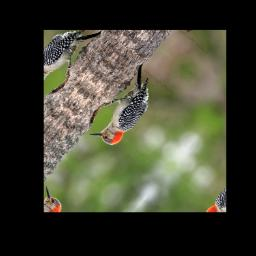Woodpecker: (82, 58, 175, 157)
